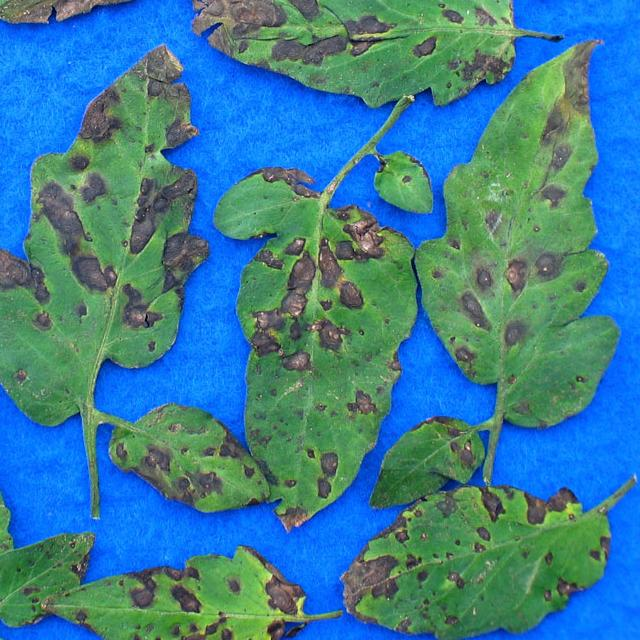Tomato Early blight leaf: (427, 33, 621, 437), (0, 50, 205, 432), (215, 176, 408, 544), (340, 466, 615, 636), (175, 0, 518, 109), (40, 552, 340, 640), (0, 136, 30, 640), (377, 410, 483, 506), (0, 0, 291, 27), (0, 0, 51, 30)
